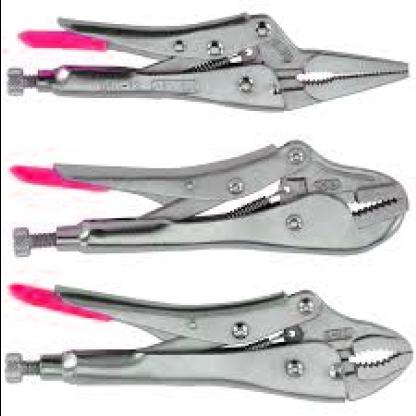Pliers: (5, 130, 410, 268), (0, 283, 416, 407), (3, 7, 414, 115)
